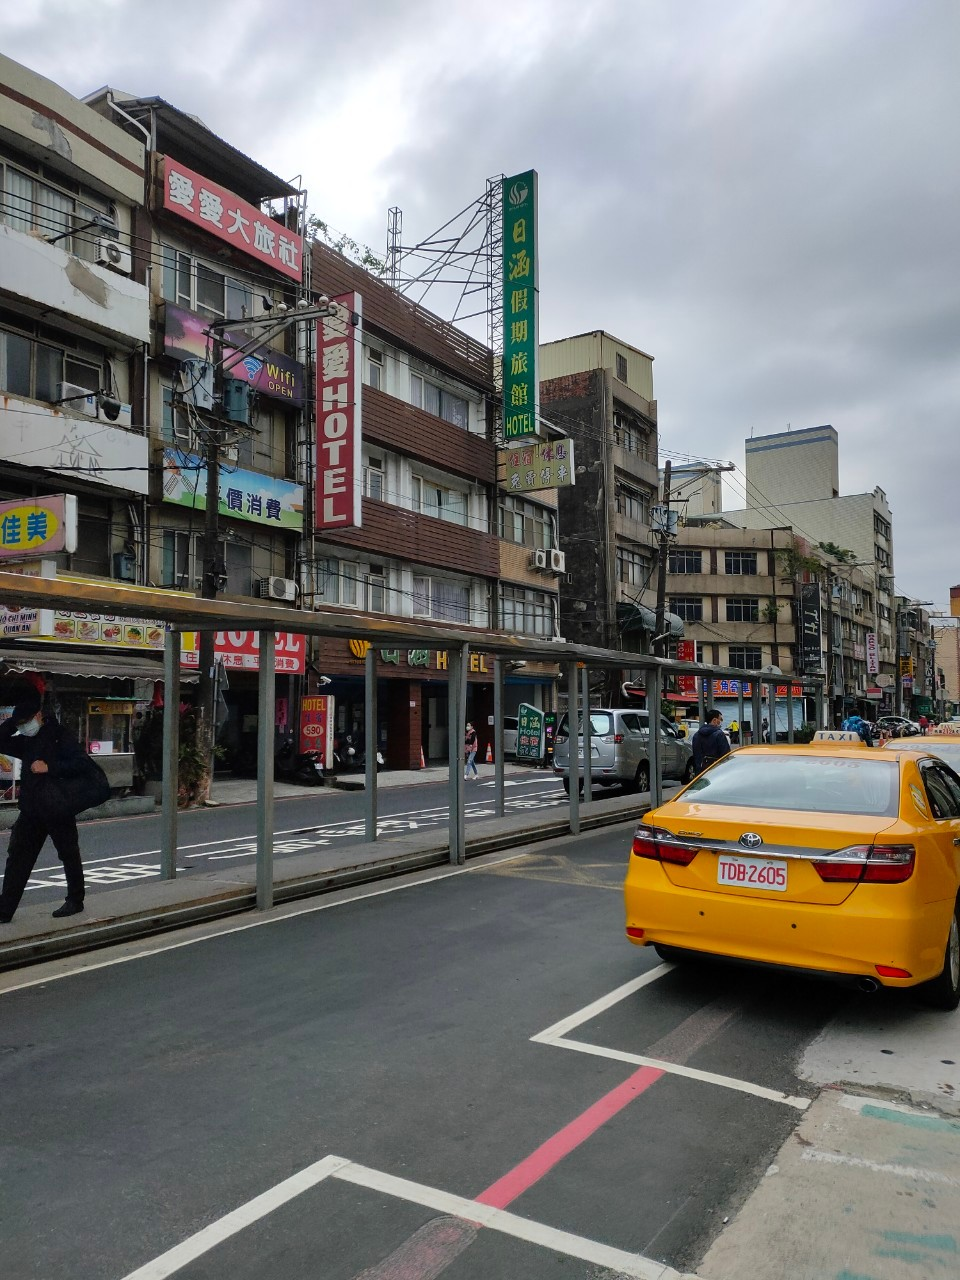people: (9, 694, 95, 923), (693, 700, 734, 772), (466, 714, 487, 784)
